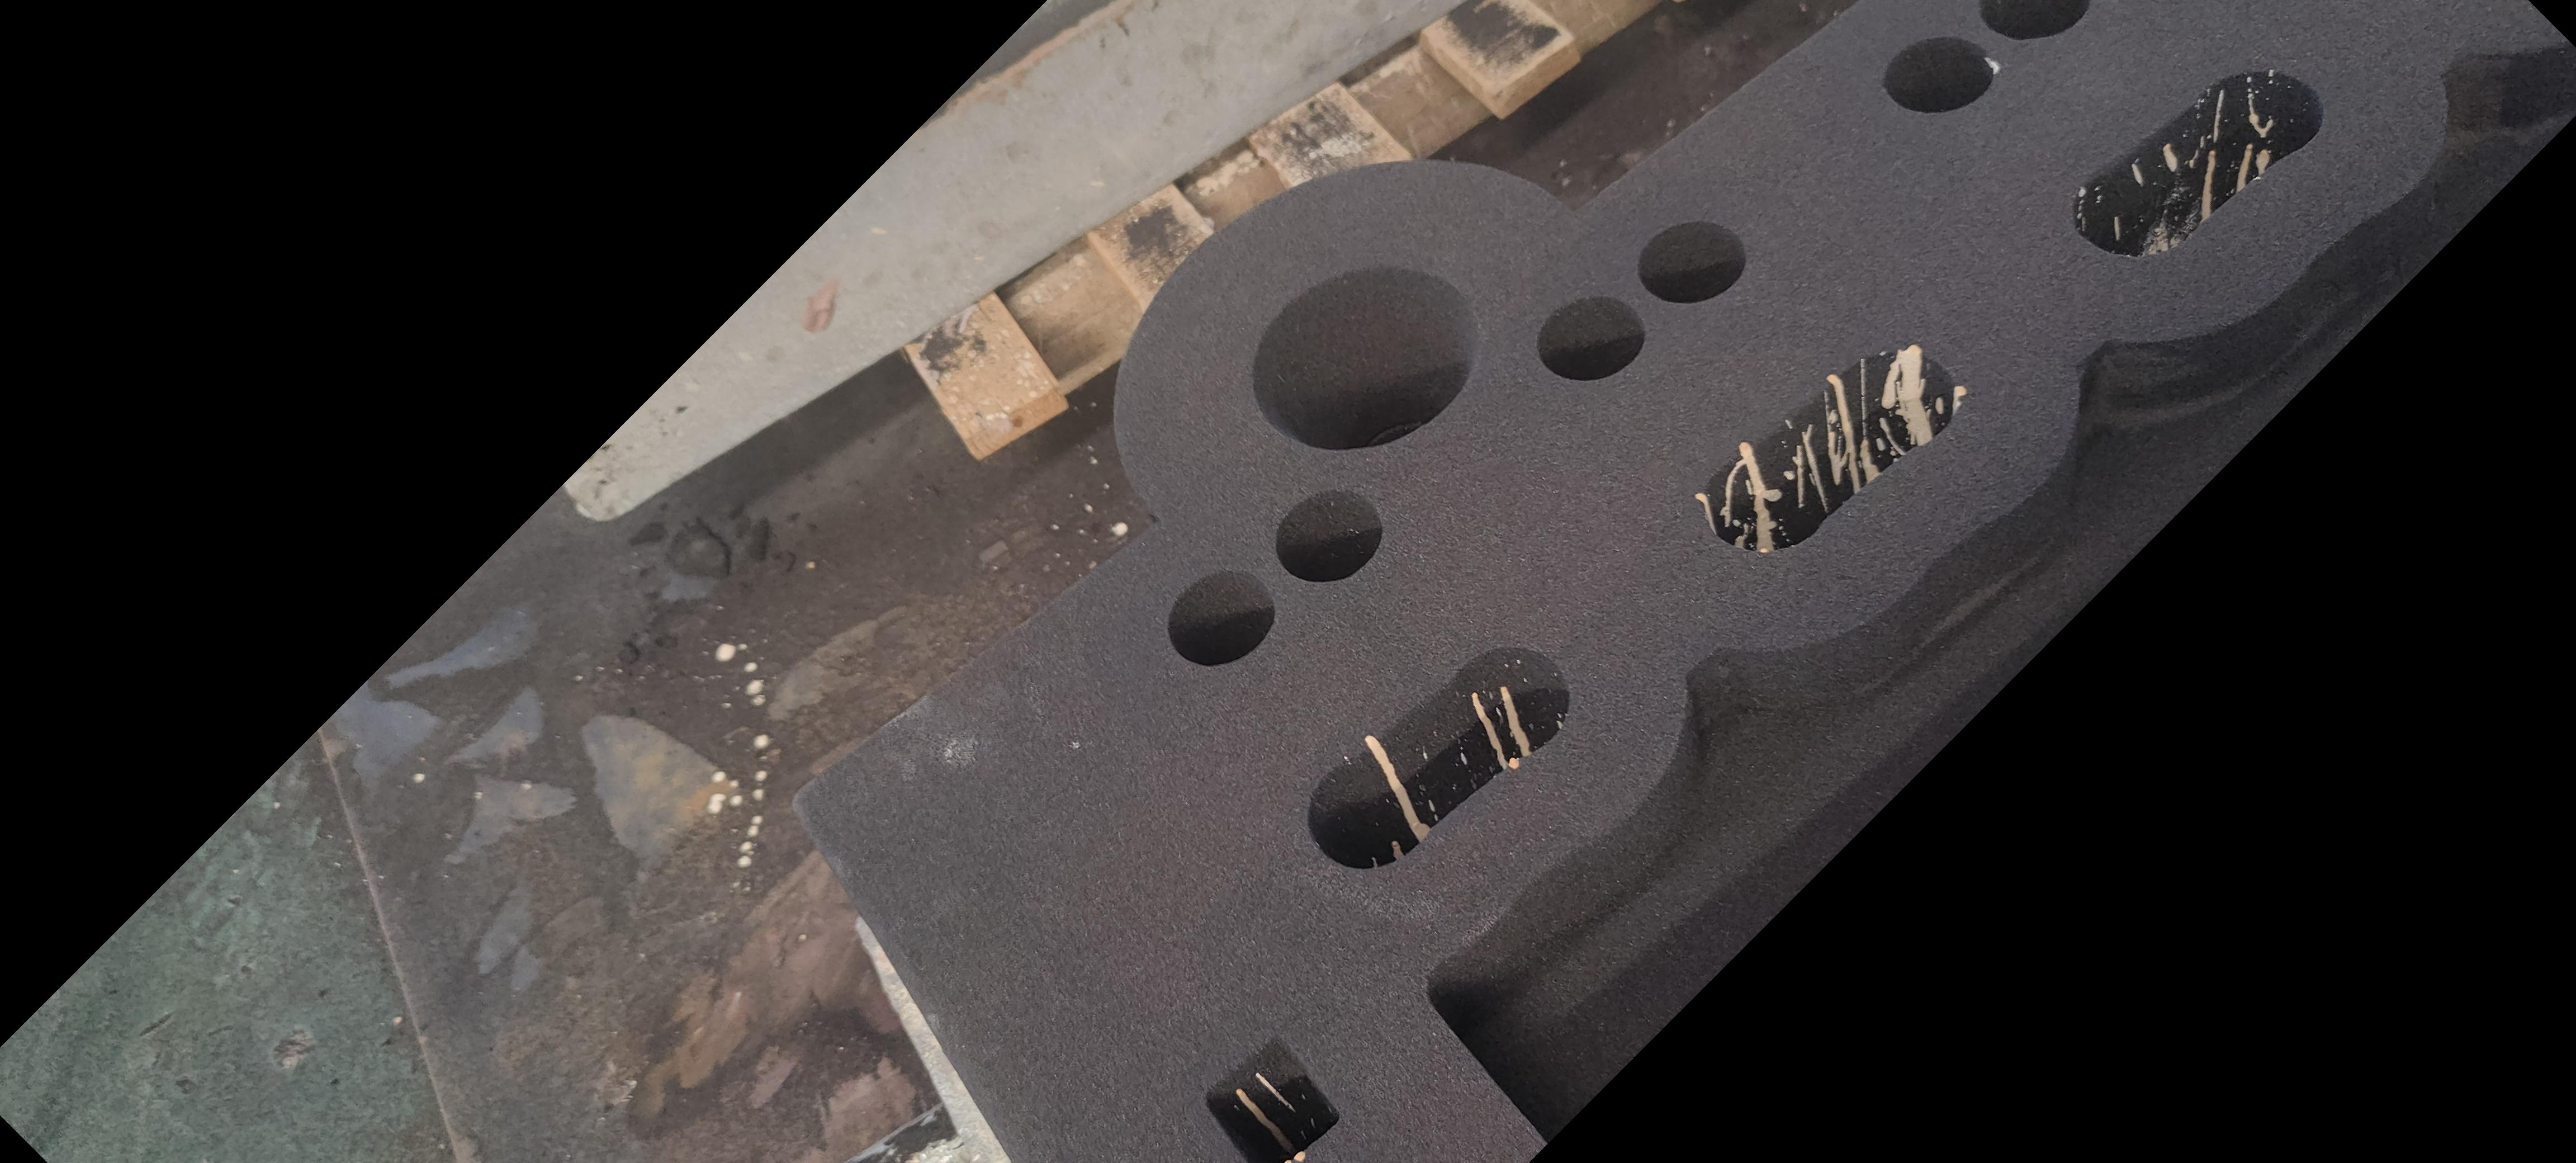pouring hole: (1252, 266, 1474, 452)
